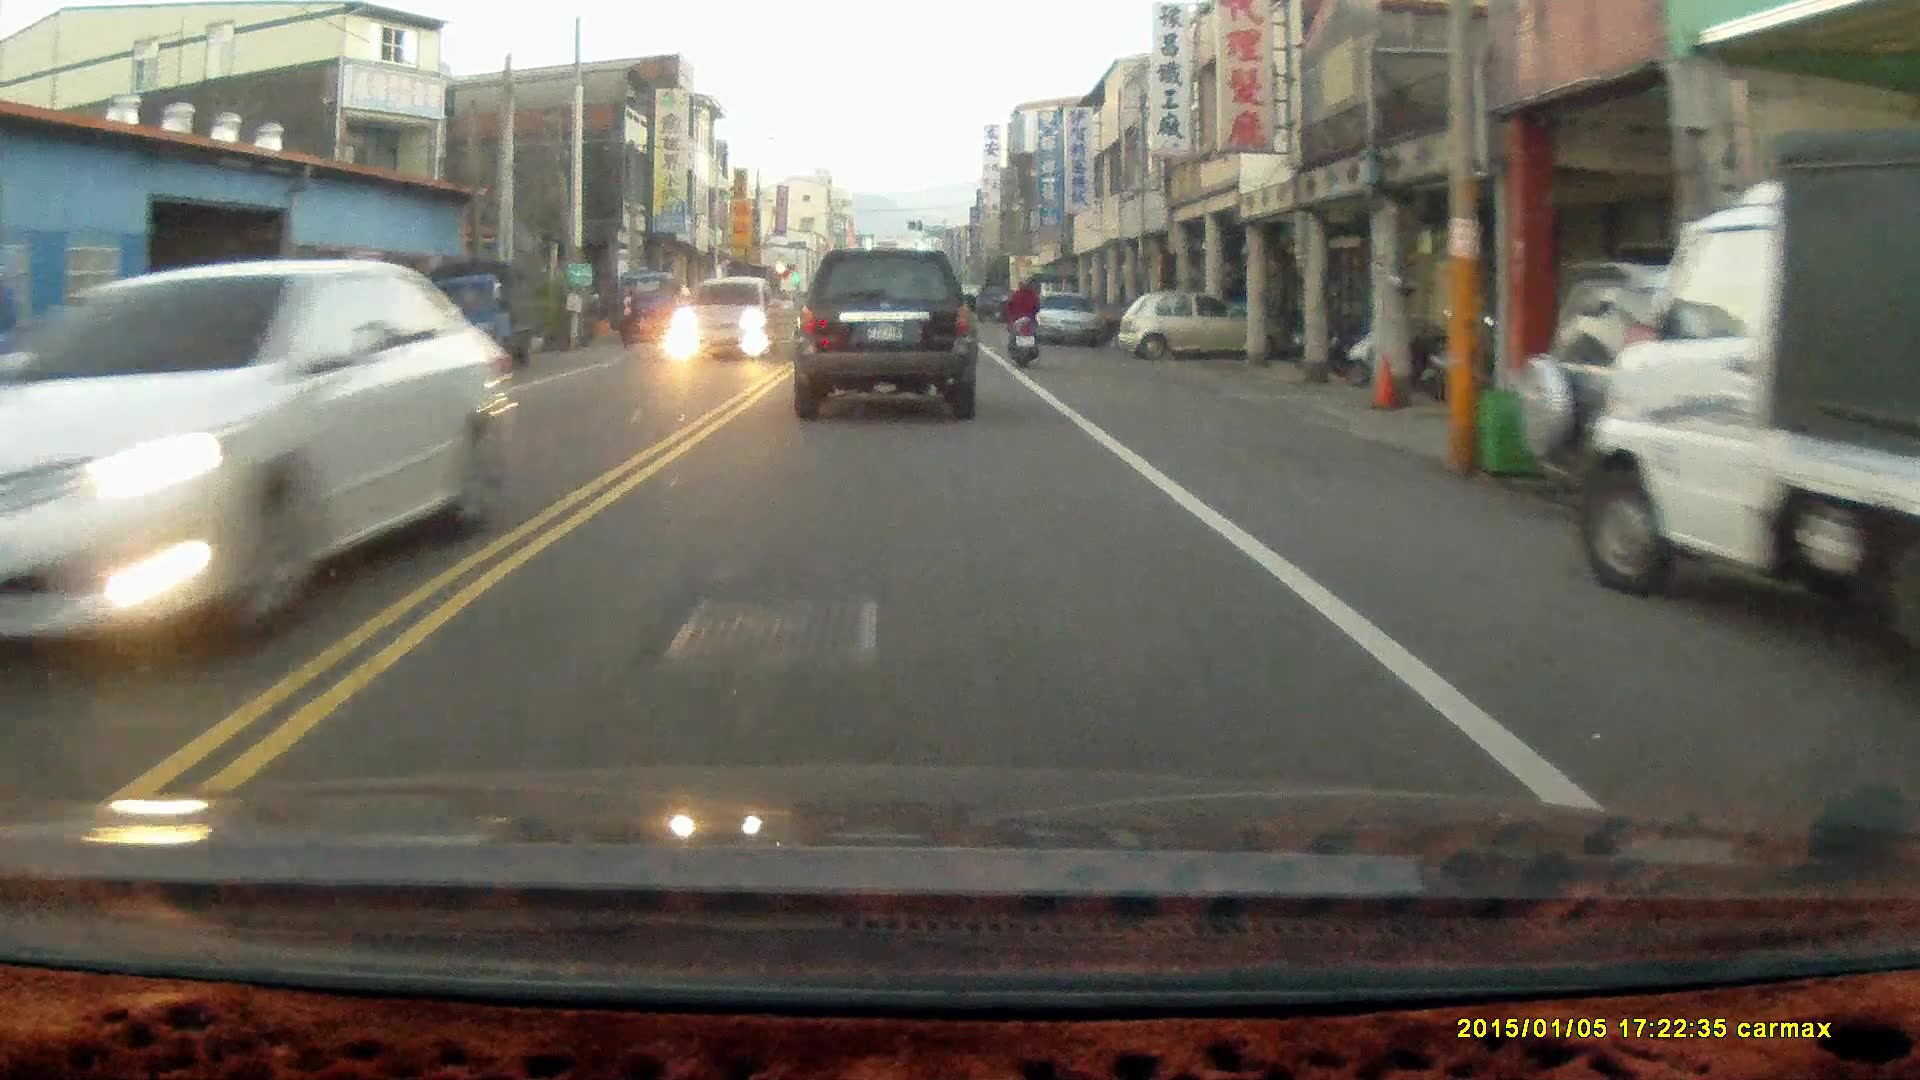pedestrian: (618, 286, 638, 347)
rider: (1005, 276, 1042, 371)
vehicle: (4, 263, 504, 685), (1579, 122, 1920, 683), (1514, 268, 1919, 527), (787, 254, 981, 428), (411, 269, 552, 380), (1118, 297, 1264, 368), (673, 281, 786, 367), (1031, 294, 1106, 348)
